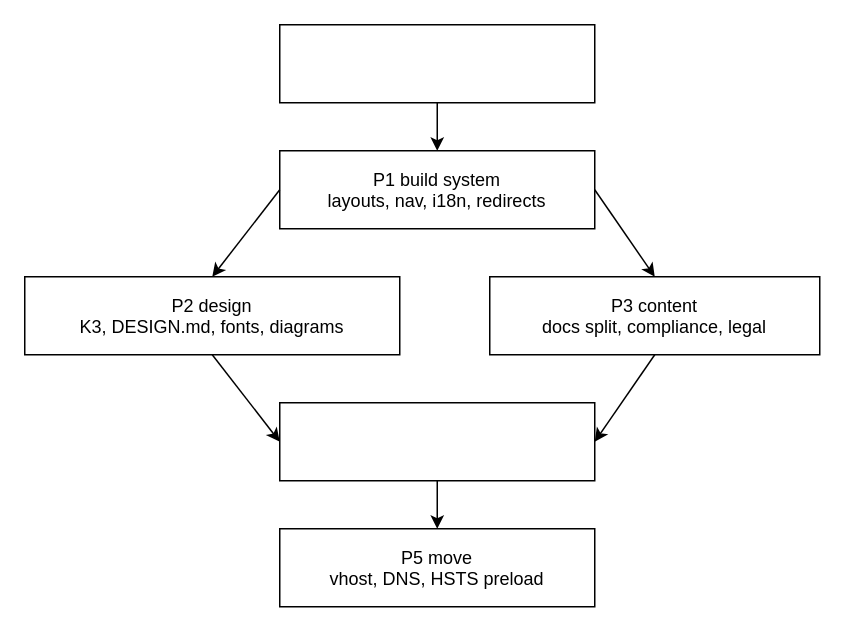
Image size: 845x632. Some labels were removed from this diagram. The box of each missing label's shape, as (x1, y1, x2, y2) in pixels:
P0 spike draw.io, Pagefind, CSP: (278, 23, 595, 103)
P4 container nginx.conf, image, counter: (278, 401, 595, 481)
